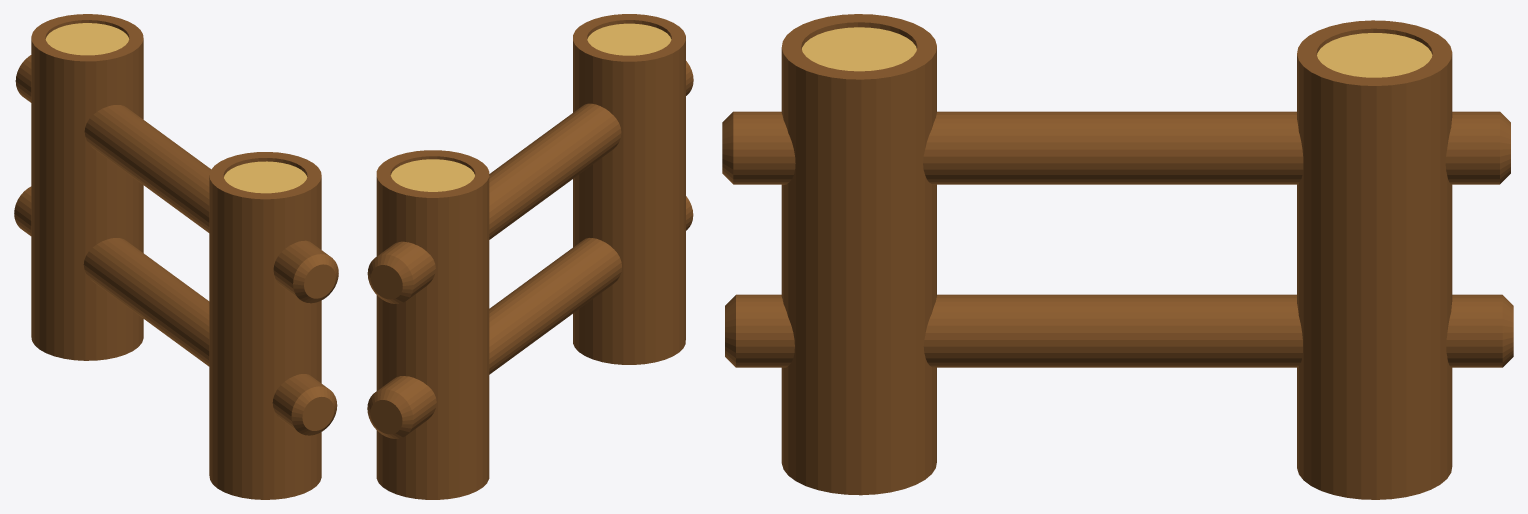
File: fence.fbx
3 views of the same model, side by side, from view 1: azimuth 30°, elevation 25°; view 2: azimuth 150°, elevation 25°; view 3: azimuth 270°, elevation 25° (orthographic). The views are drawn at different scales.
Parts seen in each view (by area): view 1: Trunk.001, Trunk.003, Trunk.002, Trunk.004; view 2: Trunk.001, Trunk.003, Trunk.002, Trunk.004; view 3: Trunk.003, Trunk.001, Trunk.004, Trunk.002.
Boxes of the visible parts, <box> form: Trunk.001: <box>209,152,321,499</box>; Trunk.003: <box>31,14,143,360</box>; Trunk.002: <box>14,186,337,435</box>; Trunk.004: <box>15,55,338,303</box>; Trunk.001: <box>573,14,685,364</box>; Trunk.003: <box>376,150,489,499</box>; Trunk.002: <box>367,196,693,438</box>; Trunk.004: <box>367,61,693,303</box>; Trunk.003: <box>1297,20,1452,499</box>; Trunk.001: <box>781,14,936,495</box>; Trunk.004: <box>722,111,1510,184</box>; Trunk.002: <box>725,294,1513,367</box>.
Size of the model in its own units: 45.89 by 125 by 215.
